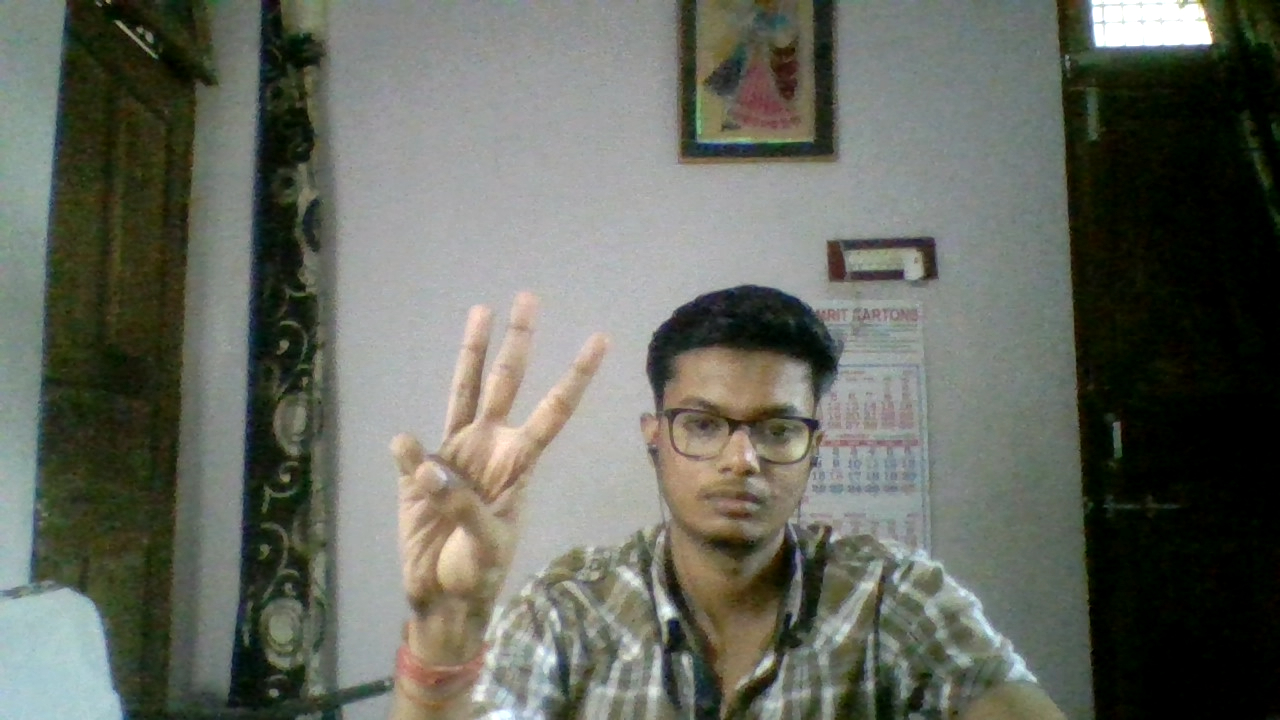three: (379, 266, 619, 663)
